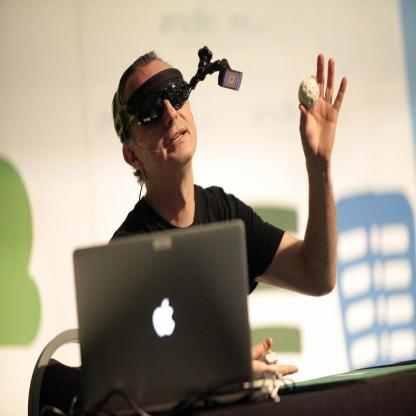board: (73, 220, 253, 410)
